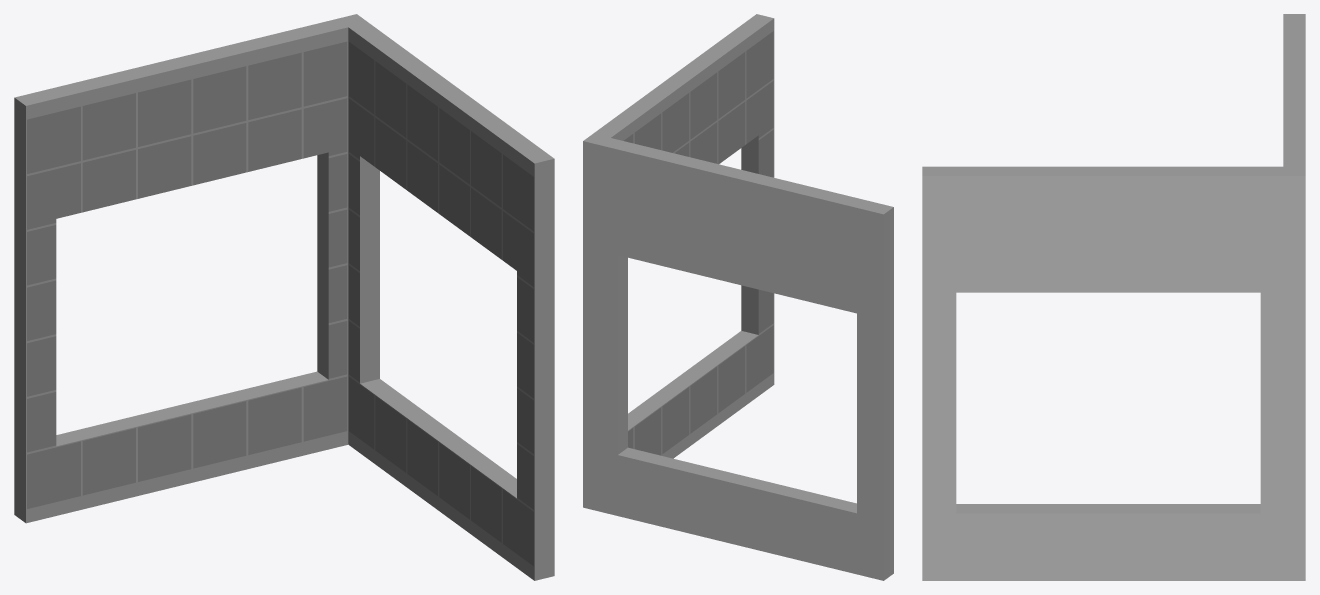
The model's file is Wall1_C7_15.fbx.
The picture shows the model from 3 angles, left to right: view 1: azimuth 30°, elevation 25°; view 2: azimuth 150°, elevation 25°; view 3: azimuth 270°, elevation 25°; orthographic projection. The views are drawn at different scales.
Visible parts, largest first — view 1: Wall1_C7_15; view 2: Wall1_C7_15; view 3: Wall1_C7_15.
Boxes of the visible parts, x1,y1,x2,y2 form: Wall1_C7_15: (14, 14, 554, 580); Wall1_C7_15: (583, 14, 893, 580); Wall1_C7_15: (922, 14, 1305, 580).
Bounding box in the file's own units: 258 × 300 × 258.
